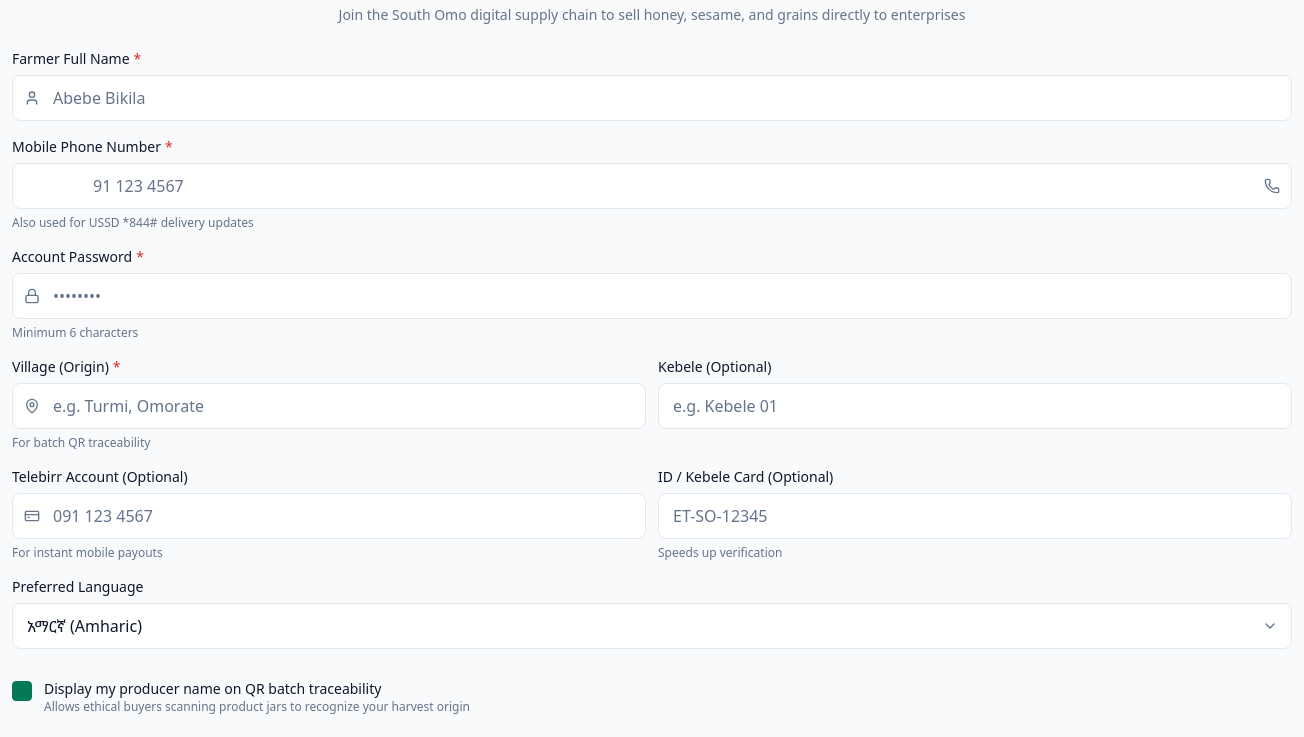
Producer / Farmer Registration (F-204) › submits valid producer registration and renders the pending approval explanation screen
Step 1. Type "Barka Lomeri" into the field labelled "Farmer Full Name*" → (652, 98), box [12,75,1292,121]
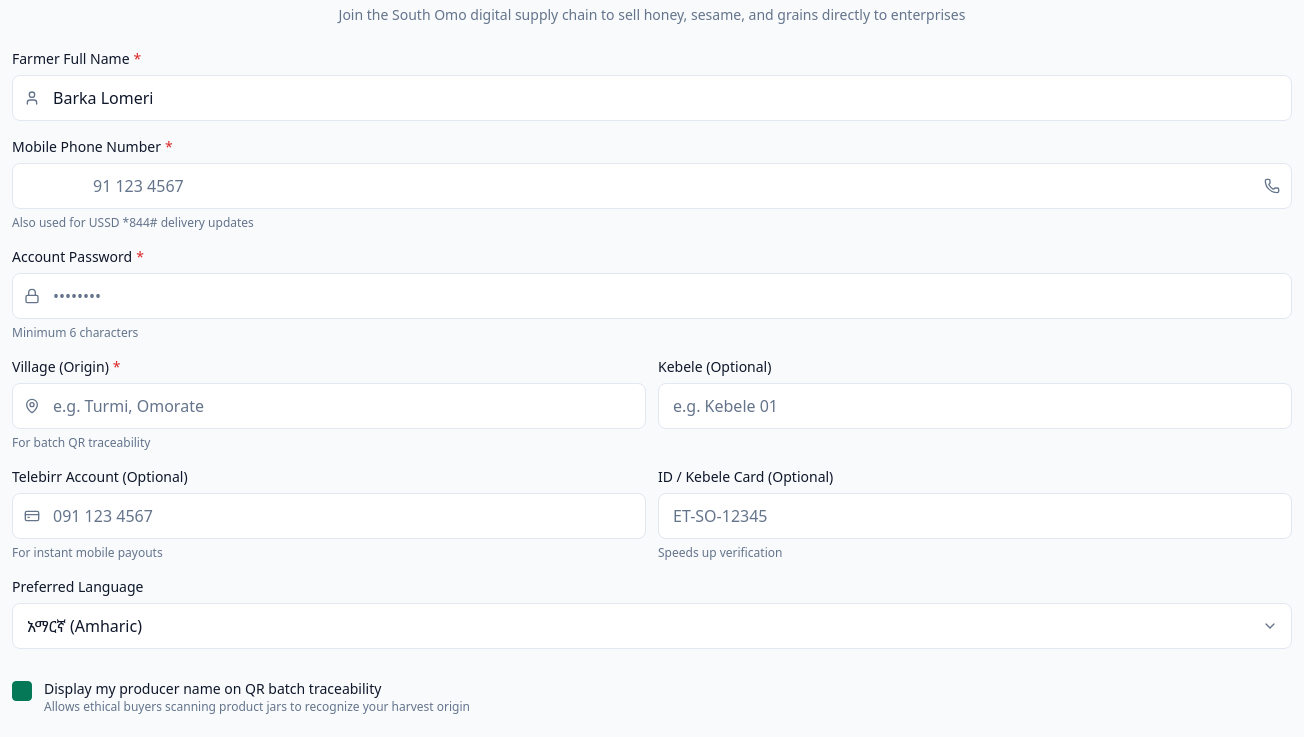
Step 2. Type "0922334455" into the field labelled "Mobile Phone Number*" → (652, 186), box [12,163,1292,209]
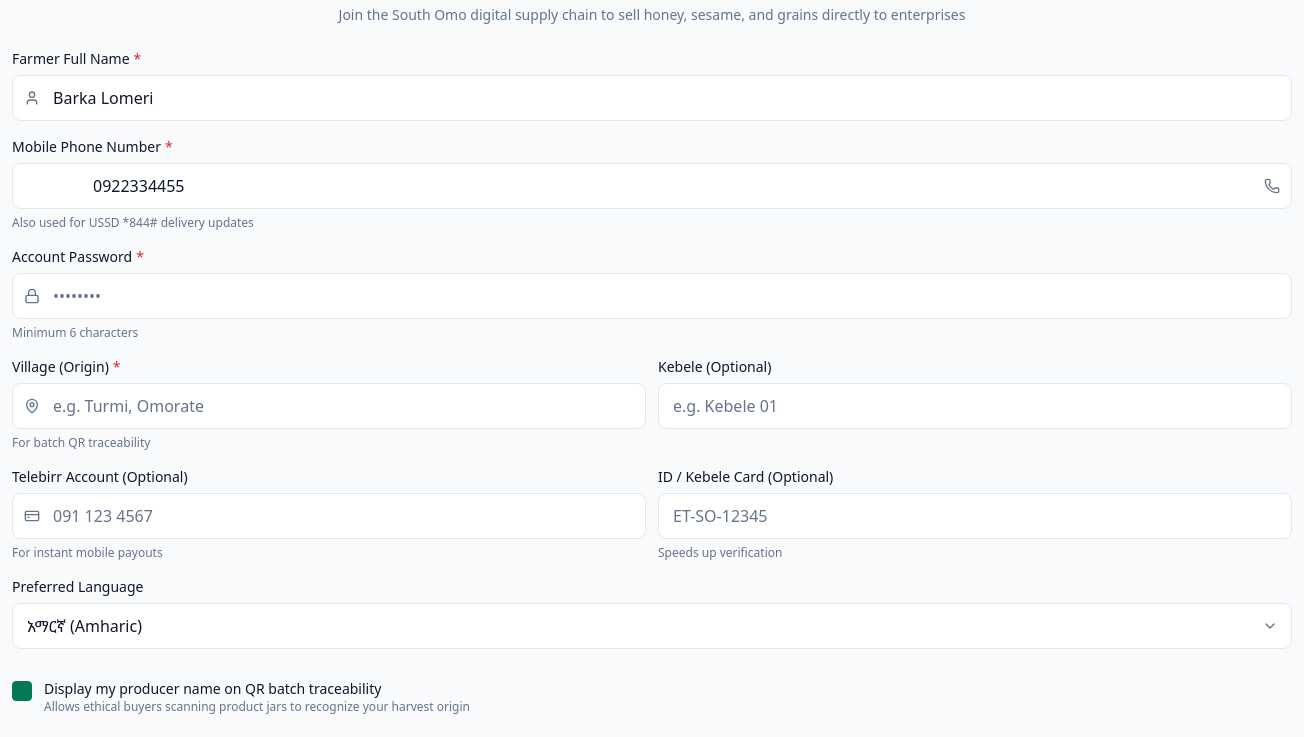
Step 3. Type "farmerPass123" into the password field labelled "Account Password*" → (652, 296), box [12,273,1292,319]
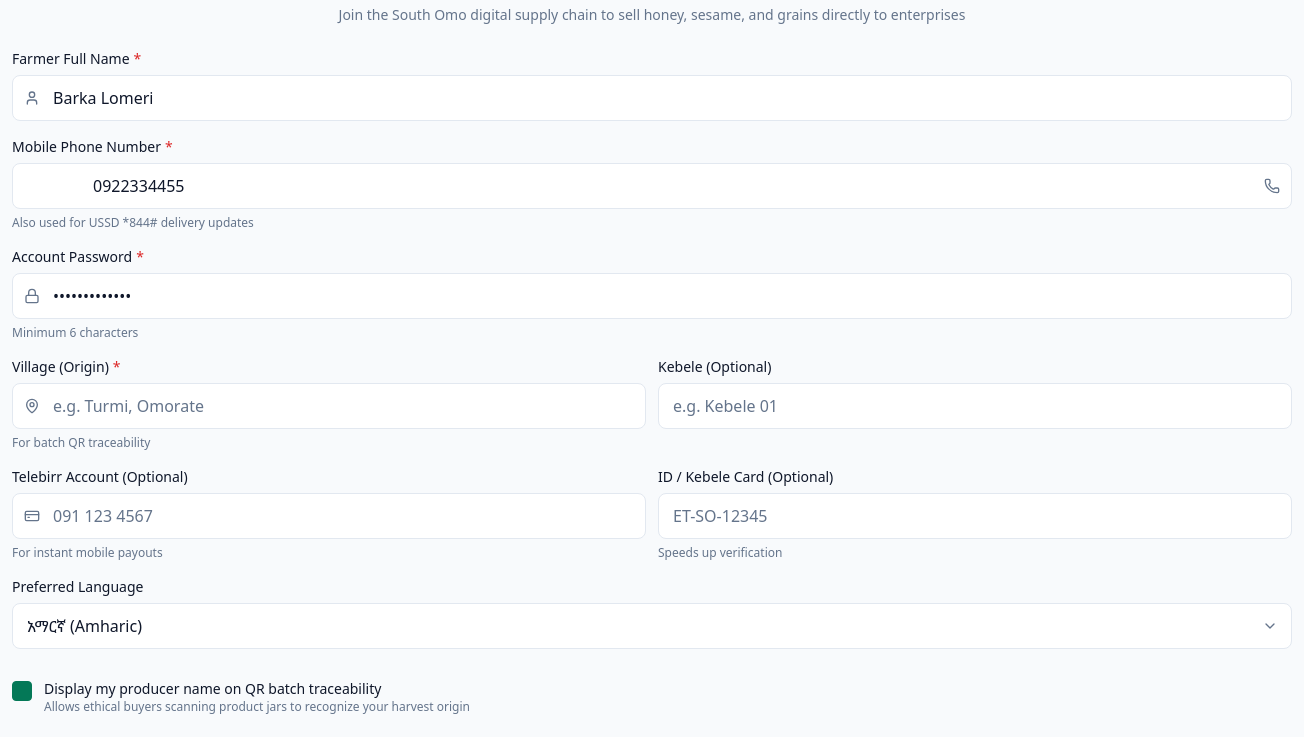
Step 4. Type "Turmi" into the field labelled "Village (Origin)*" → (329, 406), box [12,383,646,429]
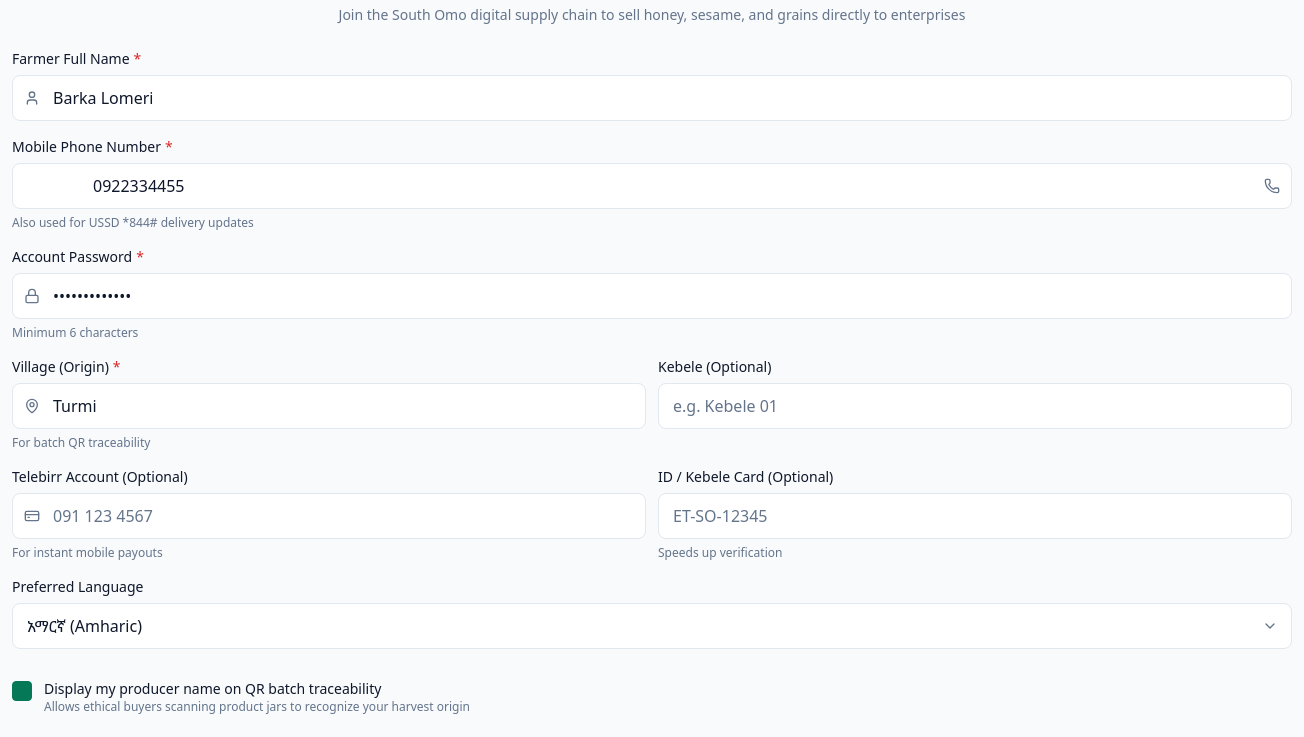
Step 5. Type "Kebele 02" into the field labelled "Kebele (Optional)" → (975, 406), box [658,383,1292,429]
(page scrolled)
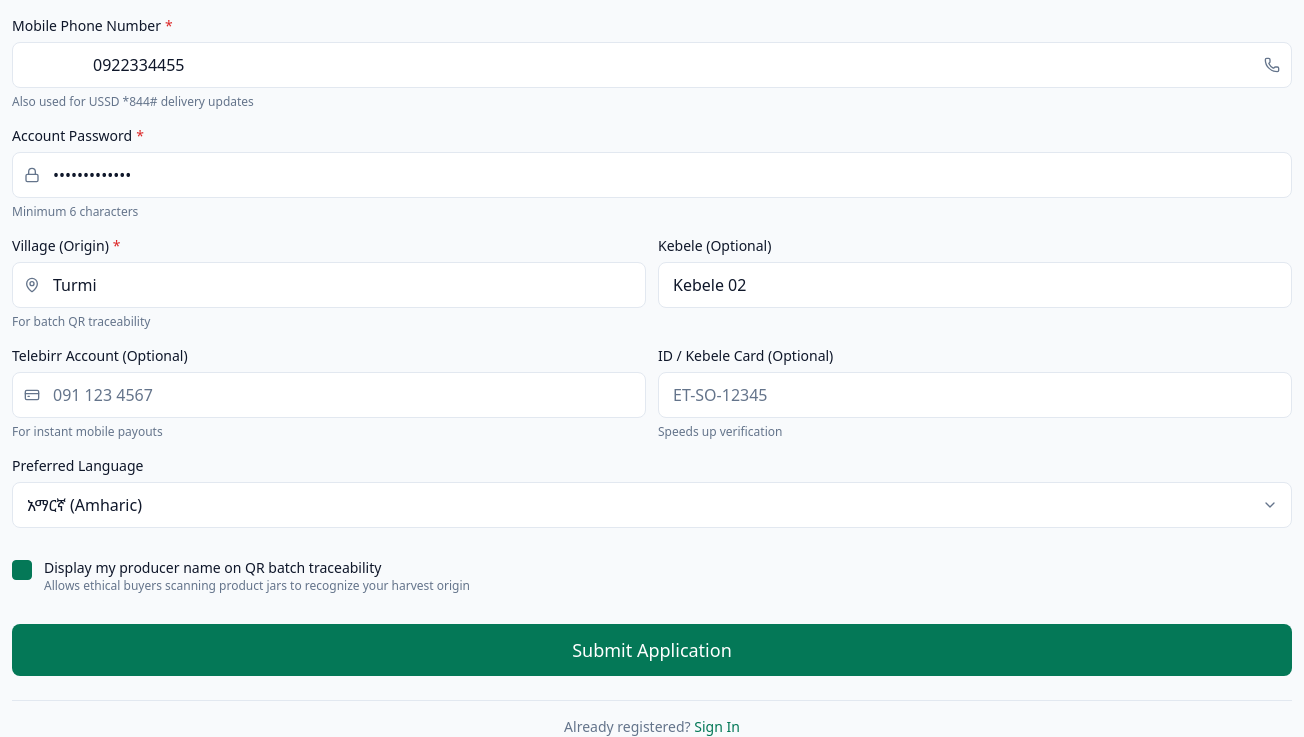
Step 6. Click the button "Submit Application" → (652, 650), box [12,624,1292,676]
(page scrolled)
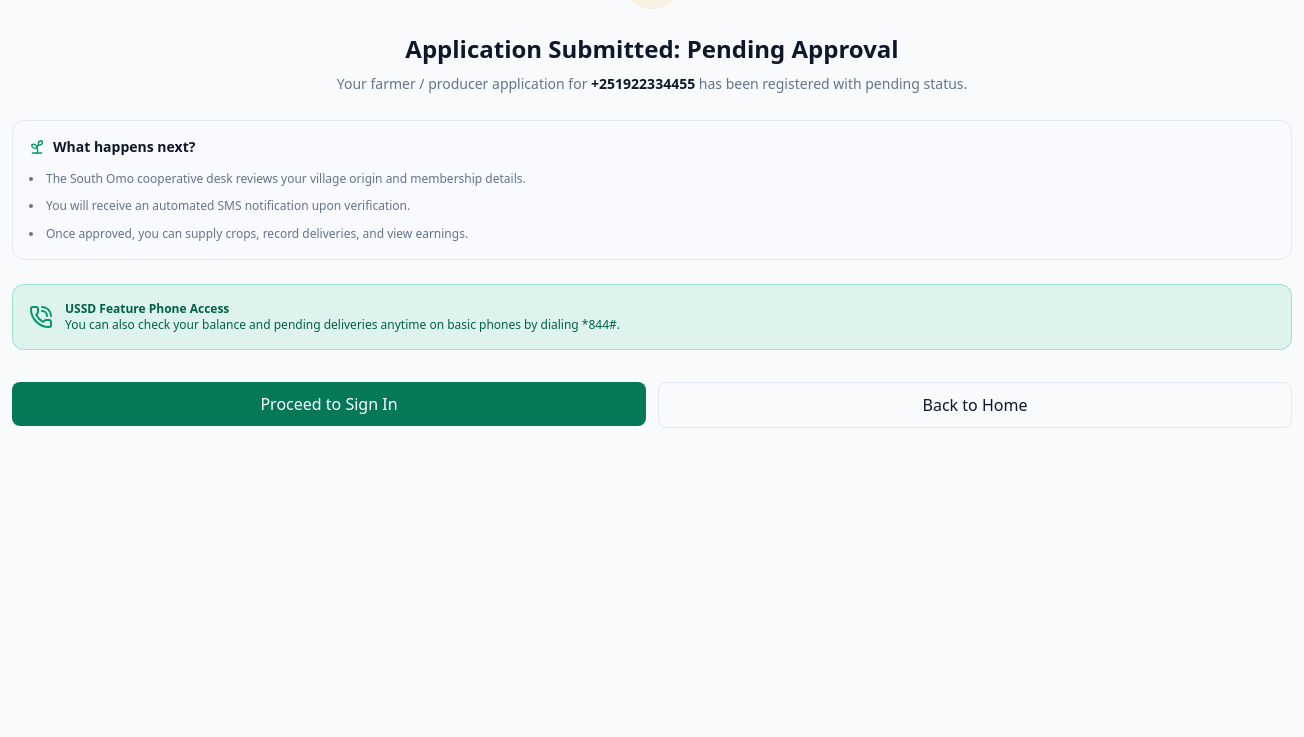
Expected: the heading "Application Submitted: Pending Approval" is shown, [405,32,899,65]
Expected: the heading "What happens next?" is shown, [29,137,195,156]
Expected: the text "USSD Feature Phone Access" is shown, [65,300,229,317]
